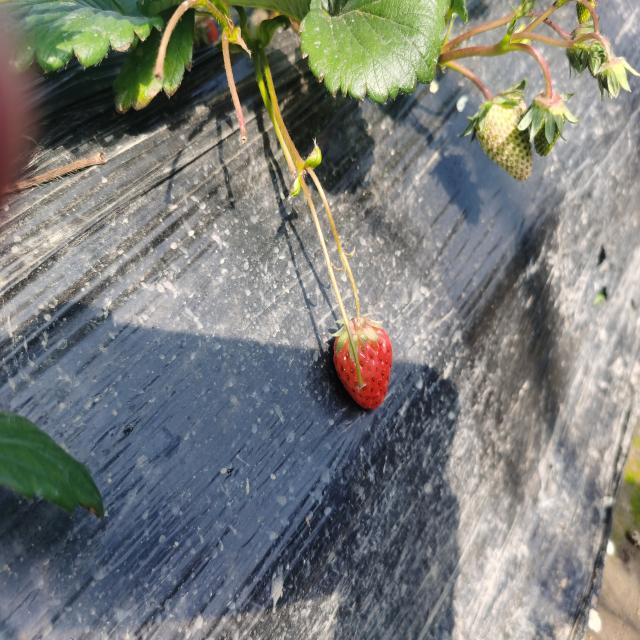stem: (348, 272, 360, 333)
strawberry: (333, 317, 393, 409)
